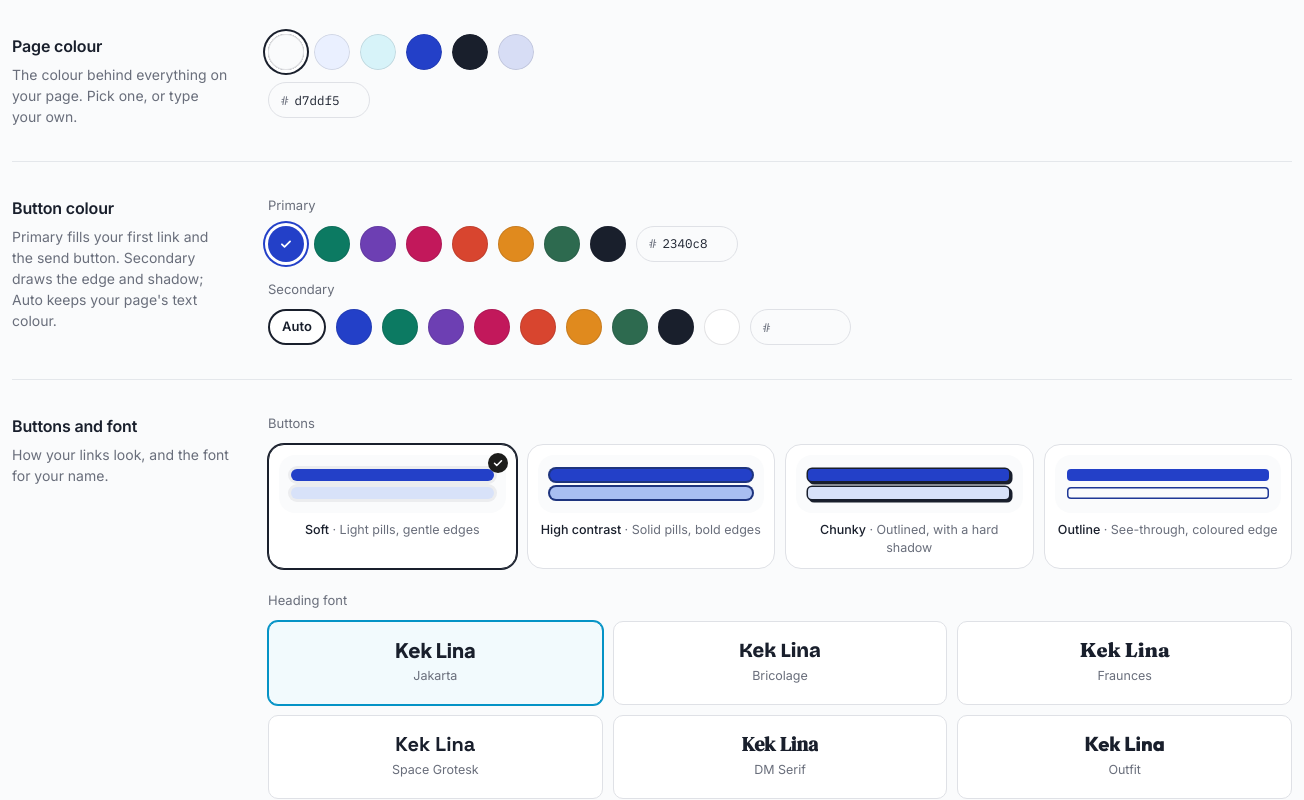
AppearanceEditor › syncs the custom colour field to a chosen preset
Click the button named "Violet": (378, 244) [360,226,396,262]
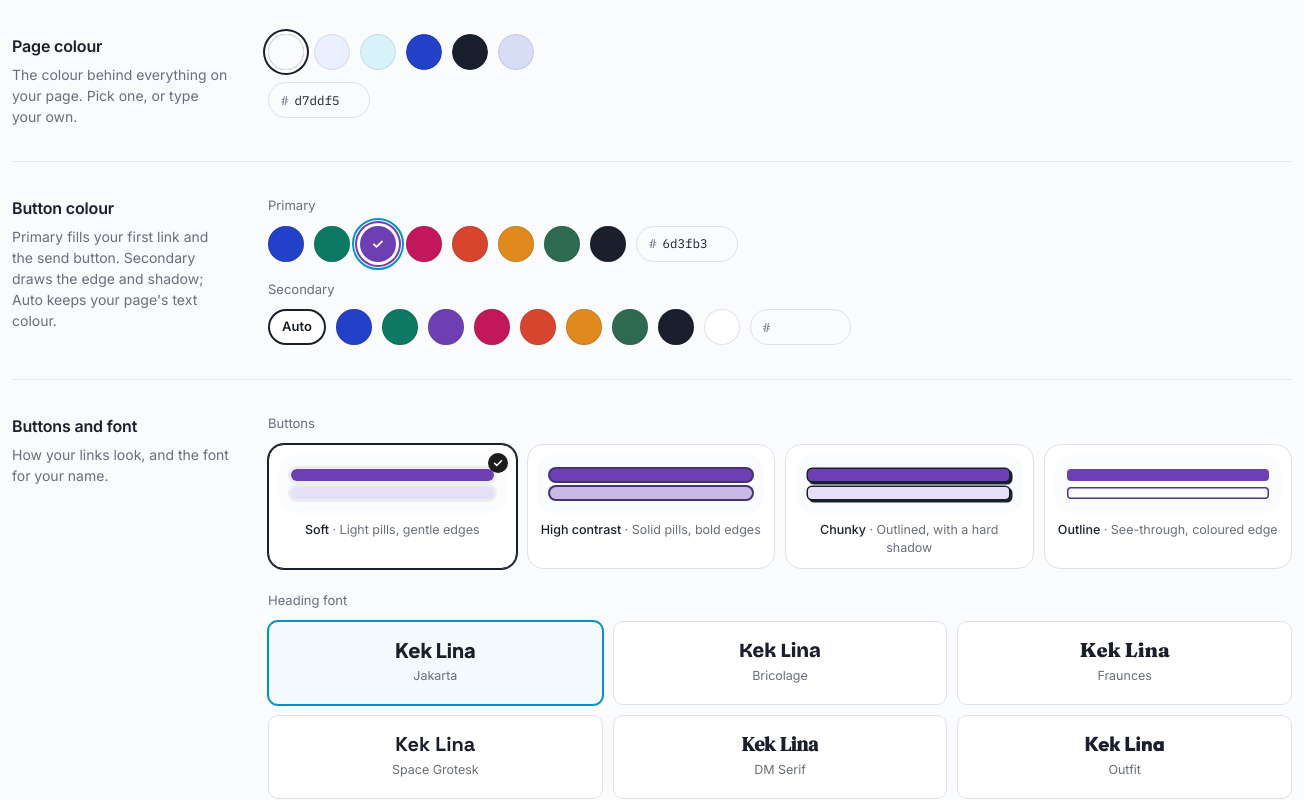
Expected: the field named "Accent colour as hex" holds "6d3fb3", [662,234,724,253]
